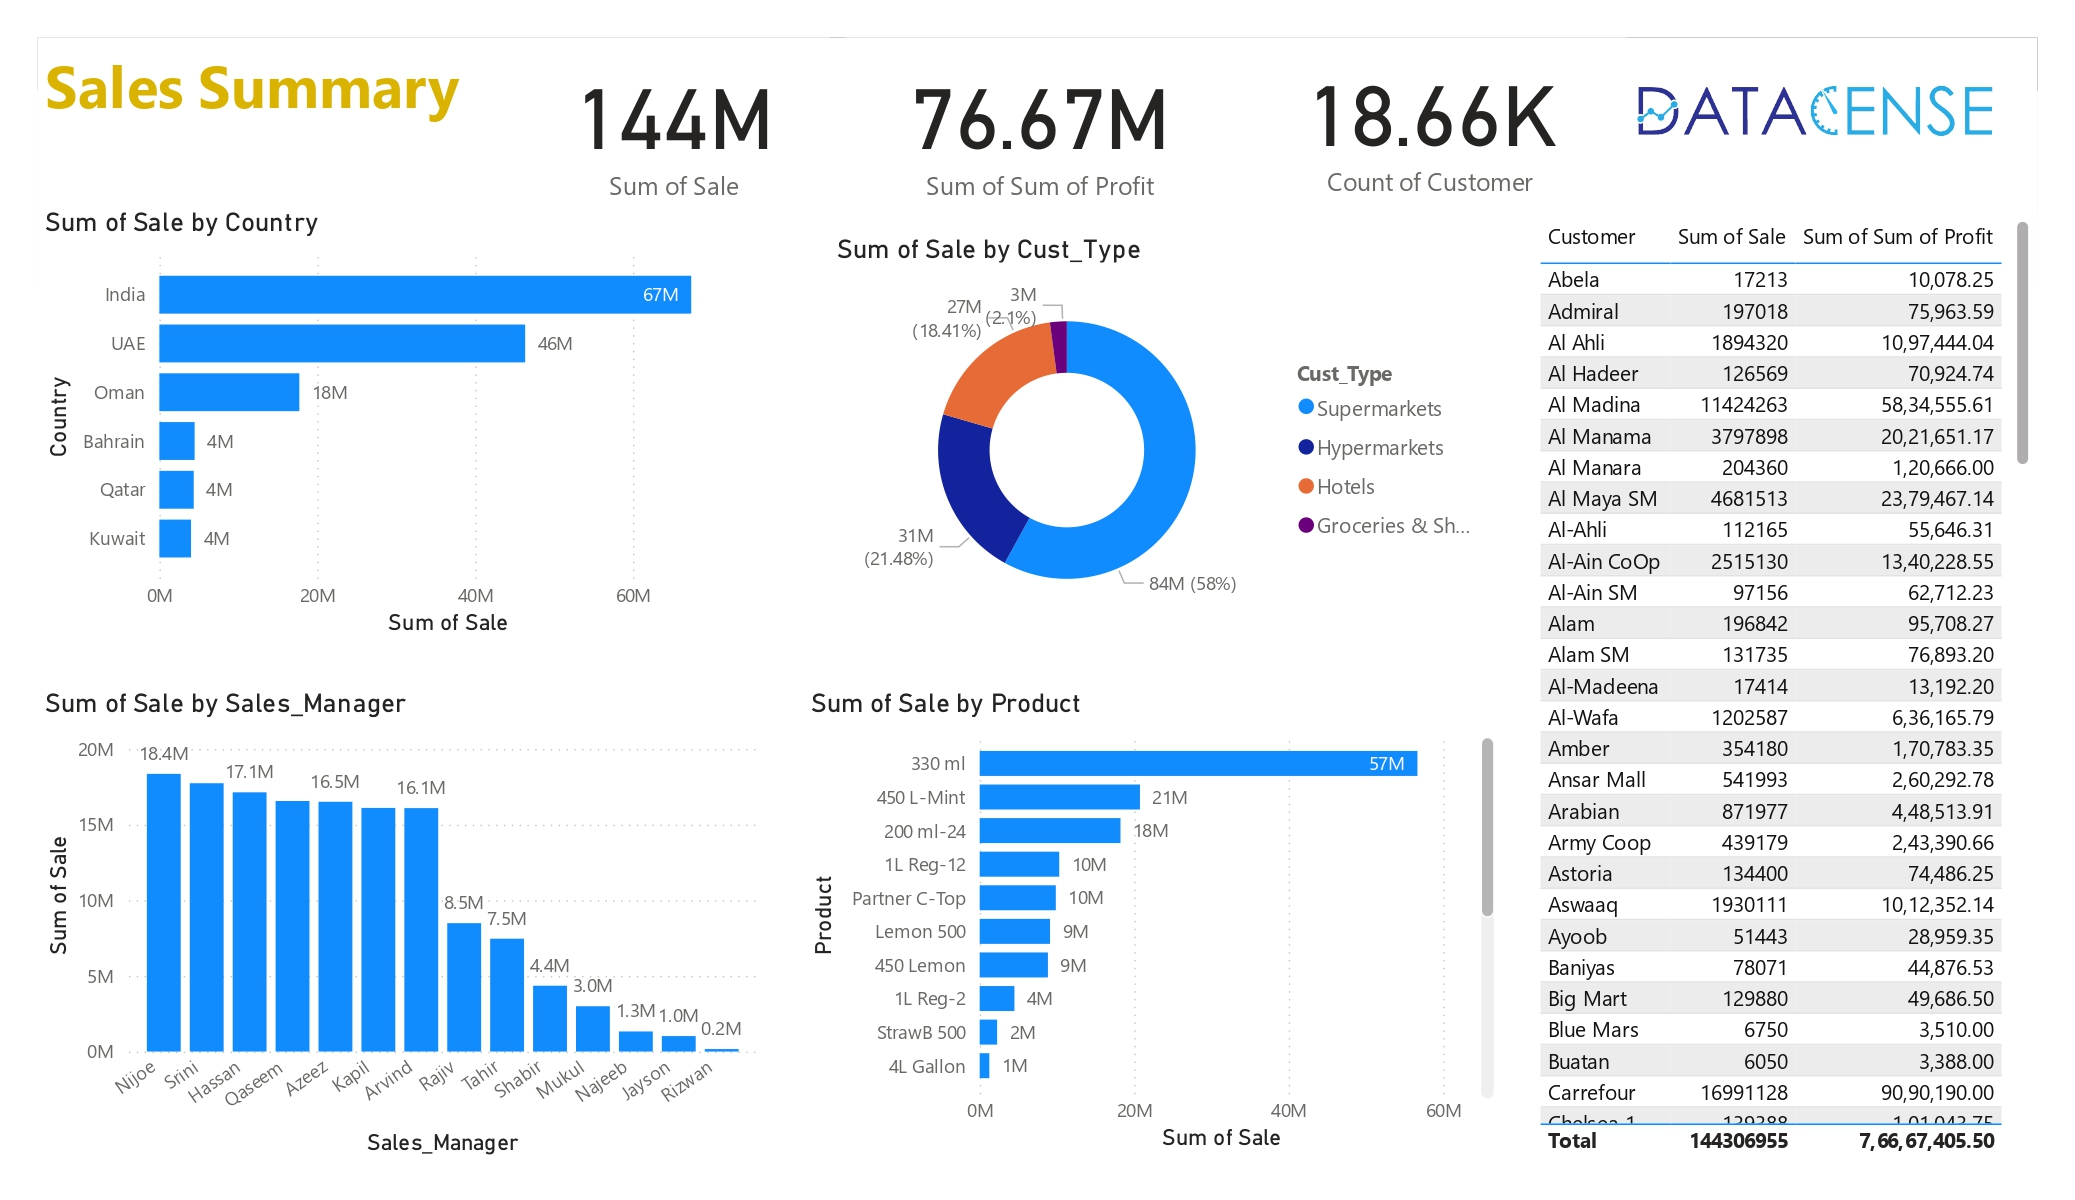

The dashboard page shown, as its layout file describes it:
{"tool":"powerbi","page":{"name":"Sales Summary","canvas":[1280,720],"ordinal":0},"visuals":[{"type":"image","box":[999.4,0,280.8,97.9],"z":0},{"type":"card","fields":{"Values":["CountNonNull(Transactions.Customer)"]},"box":[766.1,0,250.6,108],"z":1000},{"type":"card","fields":{"Values":["Sum(Transactions.Sale)"]},"box":[306.7,0,200.2,112.3],"z":2000},{"type":"textbox","box":[0,0,306.7,108],"z":3000},{"type":"card","fields":{"Values":["Sum(Transactions.Sum of Profit)"]},"box":[517,0,249.1,112.3],"z":4000},{"type":"tableEx","fields":{"Values":["Transactions.Customer","Sum(Transactions.Sale)","Sum(Transactions.Sum of Profit)"]},"box":[956.2,112.3,324,607.7],"z":5000},{"type":"donutChart","fields":{"Y":["Sum(Transactions.Sale)"],"Category":["Transactions.Cust_Type"]},"box":[506.9,125.3,430.6,262.1],"z":5001},{"type":"clusteredBarChart","fields":{"Y":["Sum(Transactions.Sale)"],"Category":["Transactions.Product"]},"box":[489.6,416.2,447.8,303.8],"z":5002},{"type":"barChart","fields":{"Y":["Sum(Transactions.Sale)"],"Category":["Transactions.Country"]},"box":[0,108,465.1,279.4],"z":5004},{"type":"columnChart","fields":{"Y":["Sum(Transactions.Sale)"],"Category":["Transactions.Sales_Manager"]},"box":[0,416,465,304],"z":5005}]}

Visuals, with their boxes on the page's 1280x720 design canvas (x1, y1, x2, y2). These are canvas units, not pixel positions in the 2075x1200 screenshot, which may show the page scaled, cropped or inside an application window:
image: box=[999, 0, 1280, 98]
card - CountNonNull(Transactions.Customer): box=[766, 0, 1017, 108]
card - Sum(Transactions.Sale): box=[307, 0, 507, 112]
textbox: box=[0, 0, 307, 108]
card - Sum(Transactions.Sum of Profit): box=[517, 0, 766, 112]
tableEx - Transactions.Customer x Sum(Transactions.Sale): box=[956, 112, 1280, 720]
donutChart - Sum(Transactions.Sale) x Transactions.Cust_Type: box=[507, 125, 938, 387]
clusteredBarChart - Sum(Transactions.Sale) x Transactions.Product: box=[490, 416, 937, 720]
barChart - Sum(Transactions.Sale) x Transactions.Country: box=[0, 108, 465, 387]
columnChart - Sum(Transactions.Sale) x Transactions.Sales_Manager: box=[0, 416, 465, 720]
